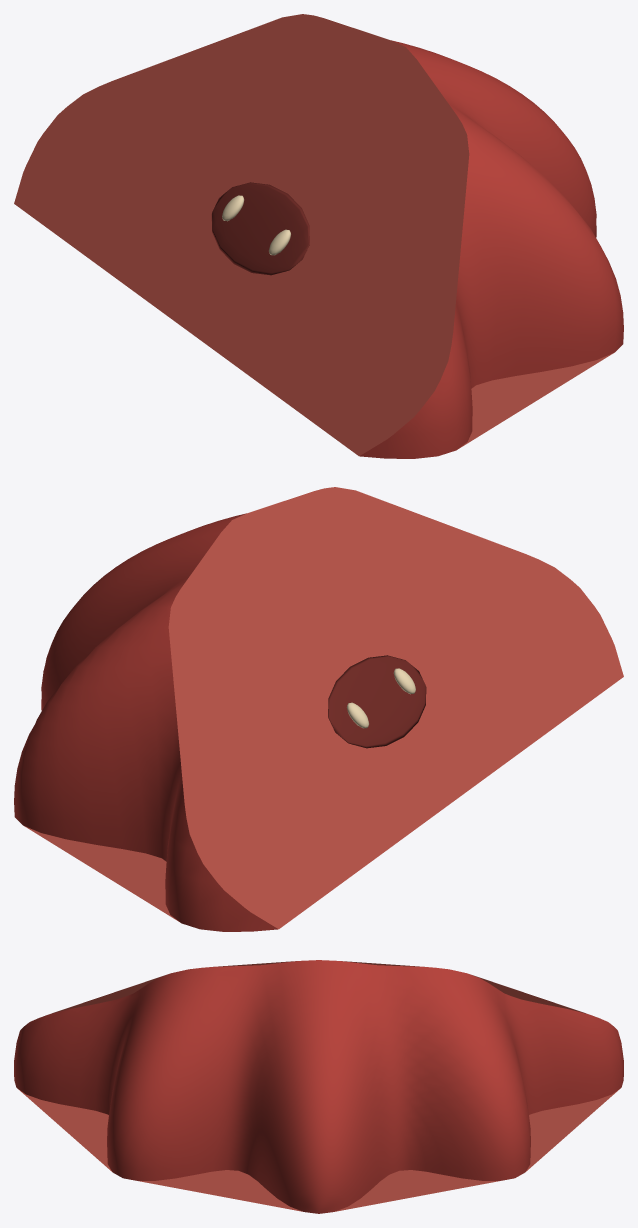
The model's file is event_giant_chunk.glb.
3 renders of one model, top to bottom at view 1: azimuth 30°, elevation 25°; view 2: azimuth 150°, elevation 25°; view 3: azimuth 270°, elevation 25°, orthographic. The views are drawn at different scales.
Parts seen in each view (by area): view 1: Giant Giant ribbed oxblood skin / Giant moist vermilion fles, Giant Nine deep crimson chambers, Giant Large ivory heirloom seeds; view 2: Giant Giant ribbed oxblood skin / Giant moist vermilion fles, Giant Nine deep crimson chambers, Giant Large ivory heirloom seeds; view 3: Giant Giant ribbed oxblood skin / Giant moist vermilion fles.
Boxes of the visible parts, left/top/right/bottom form: Giant Giant ribbed oxblood skin / Giant moist vermilion fles: left=14, top=14, right=623, bottom=458; Giant Nine deep crimson chambers: left=211, top=182, right=309, bottom=275; Giant Large ivory heirloom seeds: left=222, top=195, right=290, bottom=255; Giant Giant ribbed oxblood skin / Giant moist vermilion fles: left=14, top=487, right=623, bottom=931; Giant Nine deep crimson chambers: left=328, top=655, right=426, bottom=748; Giant Large ivory heirloom seeds: left=347, top=668, right=415, bottom=728; Giant Giant ribbed oxblood skin / Giant moist vermilion fles: left=14, top=960, right=623, bottom=1213.
Size of the model in its own units: 0.9506 by 0.5137 by 1.56.
